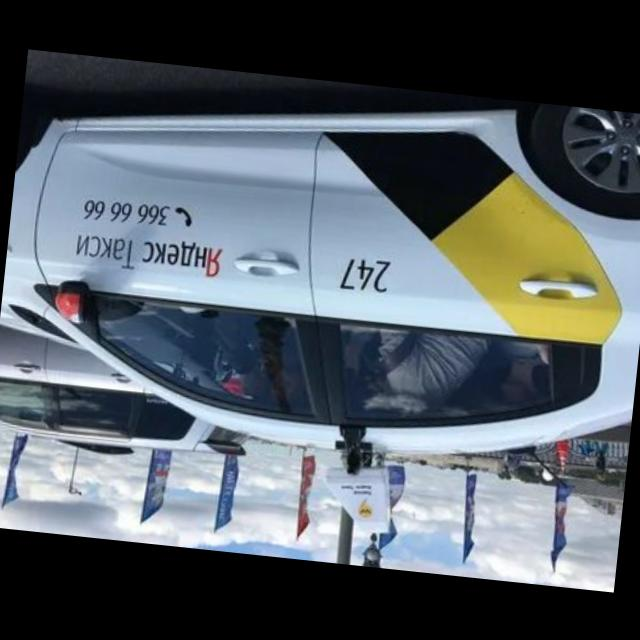taxi: (1, 50, 640, 488)
